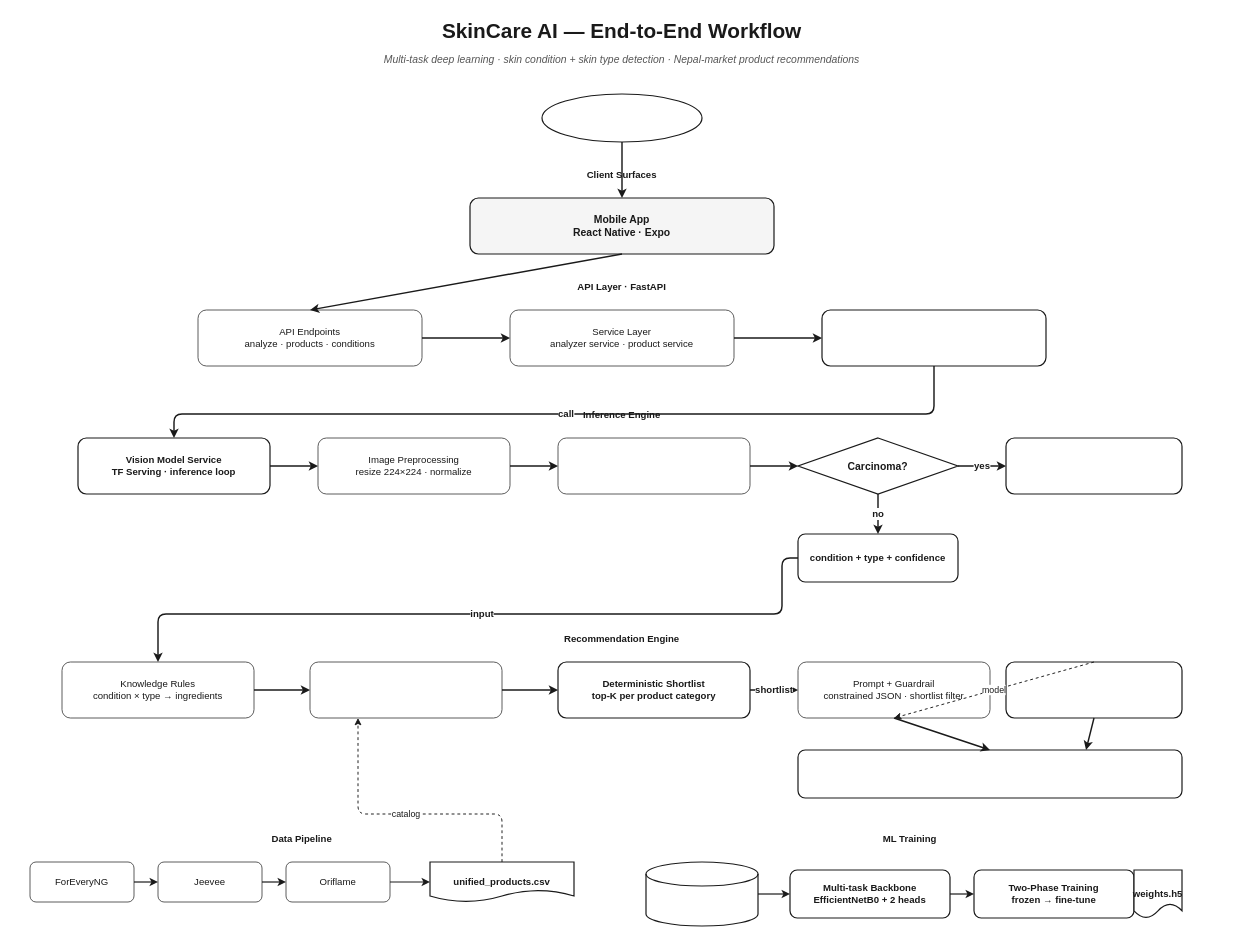
This 1243x940 diagram has some shape labels left out. Each missing label, with the centre of its shape:
"ASGI Server uvicorn · CORS middleware" goes at point (933, 337).
"dataset/ Conditions · Types" goes at point (701, 893).
"Dermatologist warning no products returned" goes at point (1093, 465).
"Final Output ranked recs + reasons + AM/PM routine" goes at point (989, 773).
"Local LLM Inference Qwen2.5-1.5B · 4-bit quant" goes at point (1093, 689).
"Multi-factor Scoring ingredient overlap · type affinity" goes at point (405, 689).
"Multi-task Classifier condition softmax · type sigmoid" goes at point (653, 465).
"User" goes at point (621, 117).
